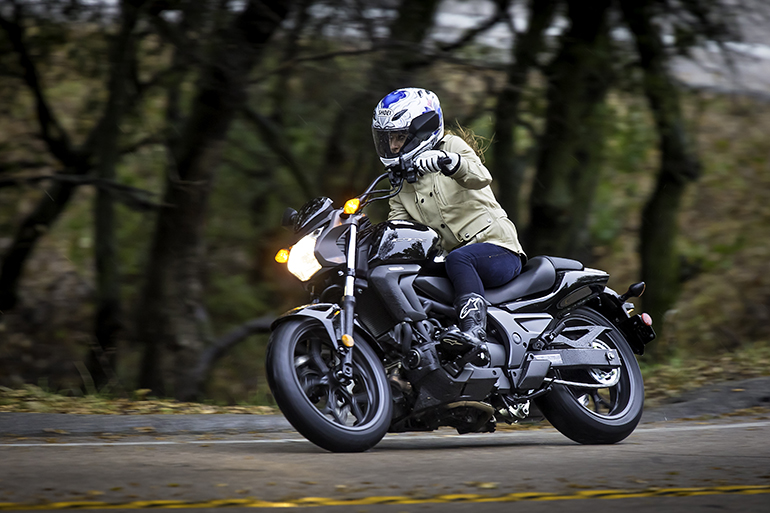with_helmet: (371, 86, 441, 170)
